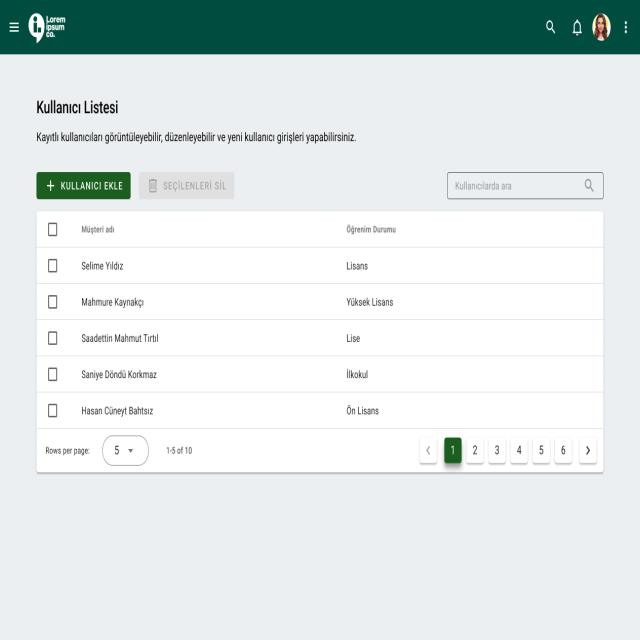QLabel: (34, 130, 358, 146), (35, 98, 121, 115), (163, 179, 226, 193), (60, 180, 124, 192)
VAppBar: (0, 0, 640, 55)
VAvatar: (592, 13, 612, 41)
VBtn: (137, 170, 236, 202), (36, 171, 131, 201)
VDataTable: (35, 209, 606, 477)
VIcon: (572, 19, 582, 35), (546, 20, 556, 35), (148, 178, 157, 194), (9, 22, 20, 33), (46, 180, 54, 191), (624, 21, 627, 34)
VImg: (25, 13, 67, 43)
VTextField: (446, 170, 604, 200)
